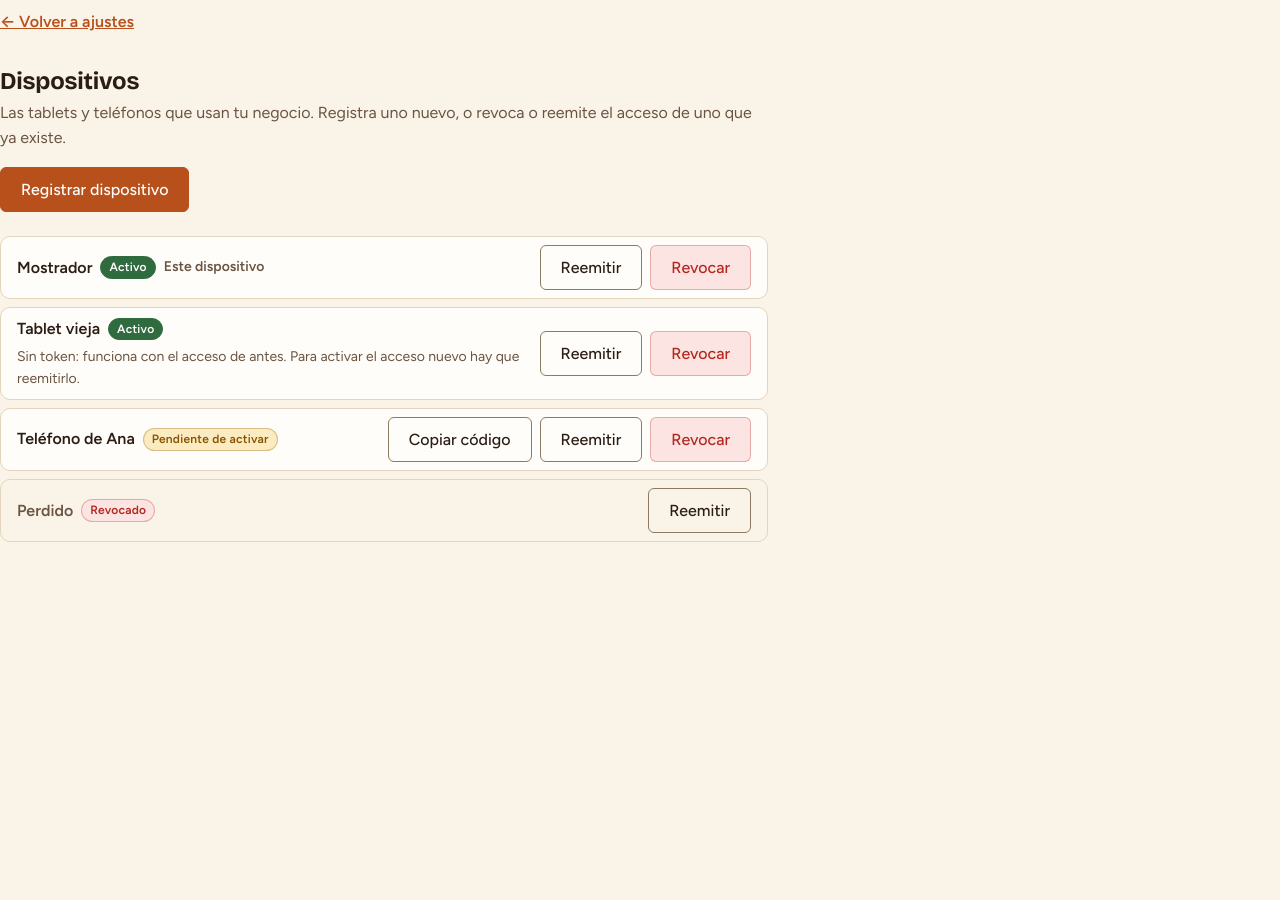
Scenario: DevicesView — registrar un dispositivo › sin correo: envía solo el nombre, cierra el cuadro, MUESTRA el código una vez y recarga la lista
Click the button "Registrar dispositivo": (95,189) [0,167,189,212]
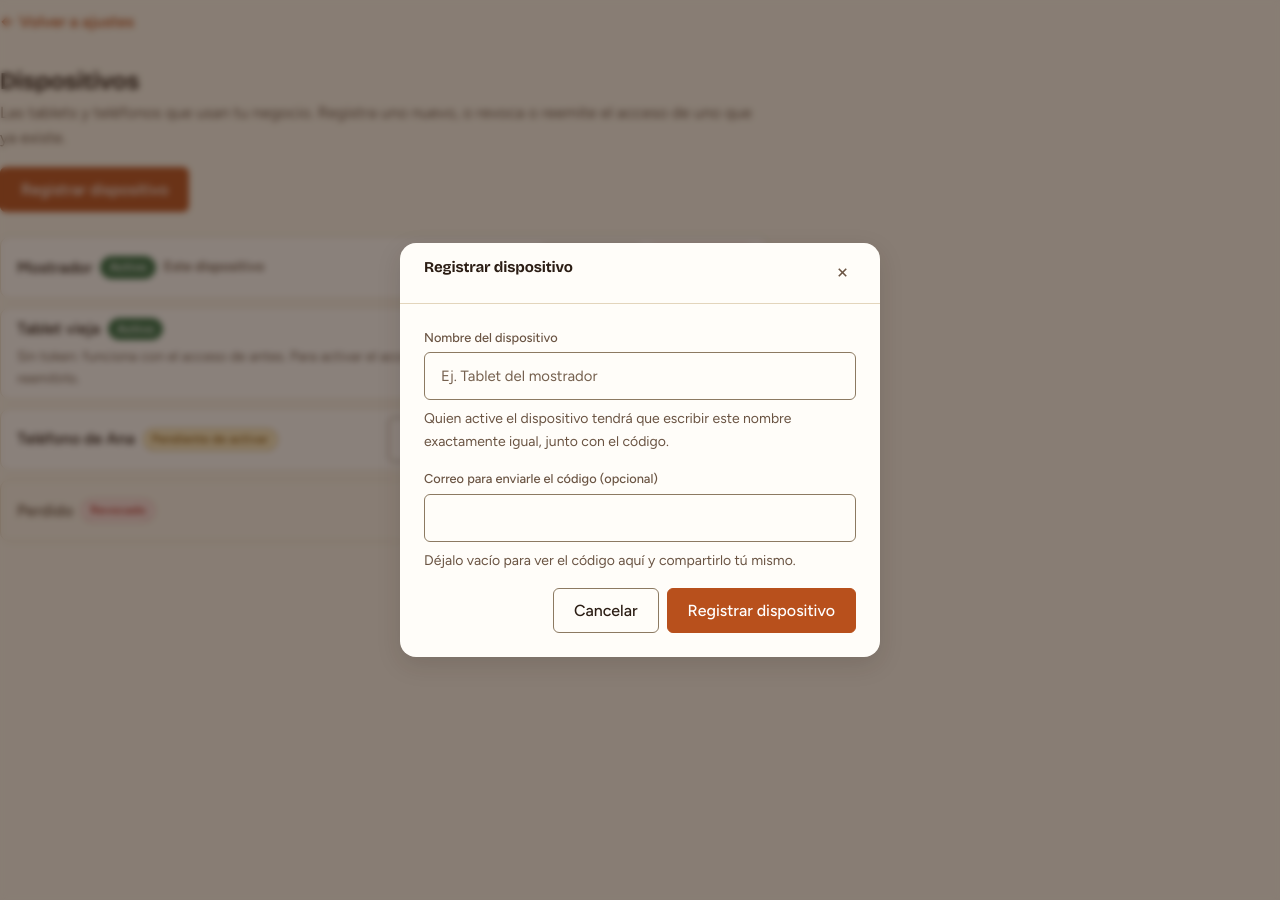
In the field labelled "Nombre del dispositivo": (640,376) [424,352,856,400], type "Tablet nueva"
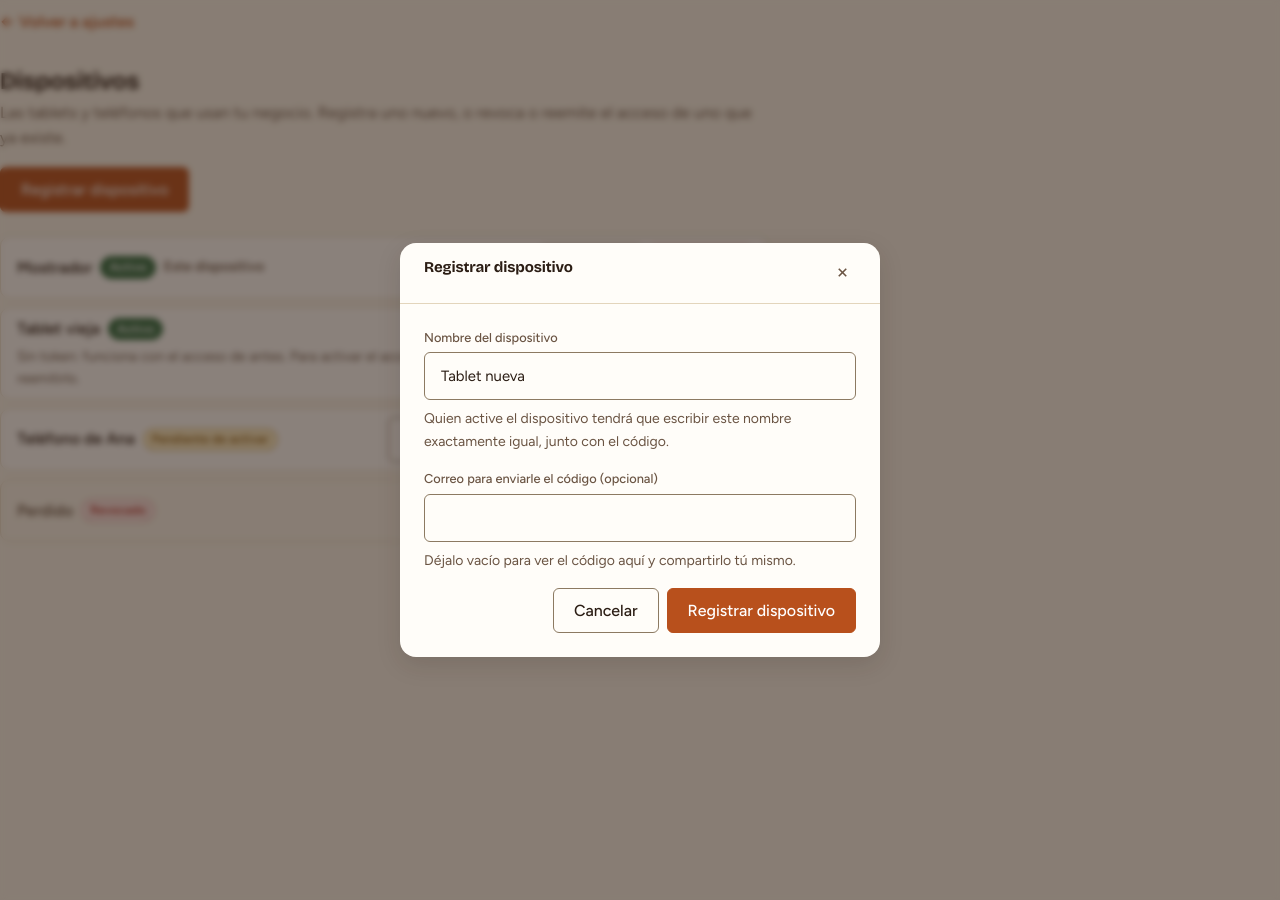
Submit the form with class "device-create-form", box [424,328,856,633]
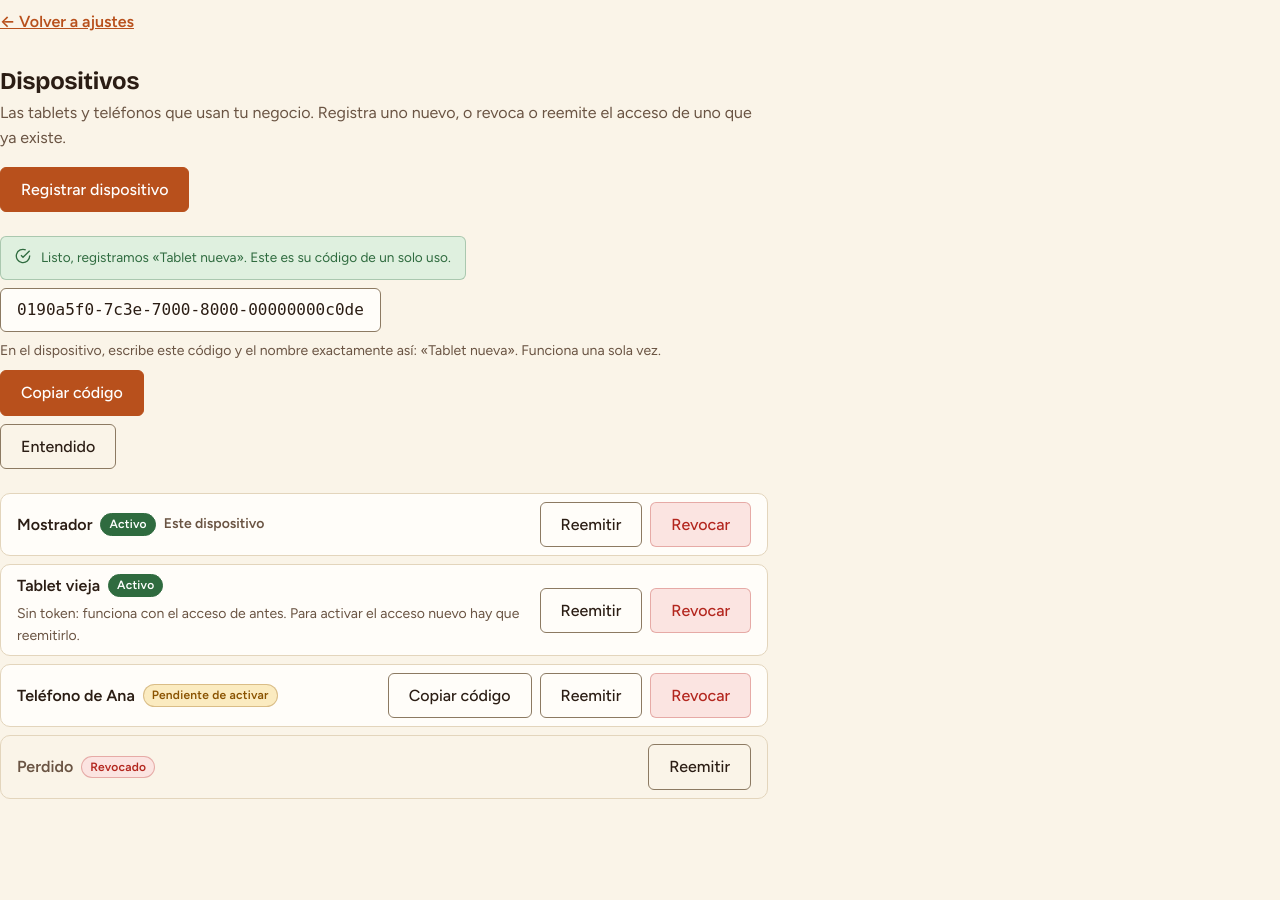
Expected: the form with class "device-create-form" is gone
Expected: the text with class "device-code-notice__code" reads "0190a5f0-7c3e-7000-8000-00000000c0de", [17,300,364,319]
Expected: the element with class "device-code-notice" shows "Tablet nueva", [41,249,451,265]
